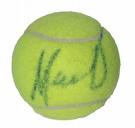tennis ball: (11, 10, 120, 120)
